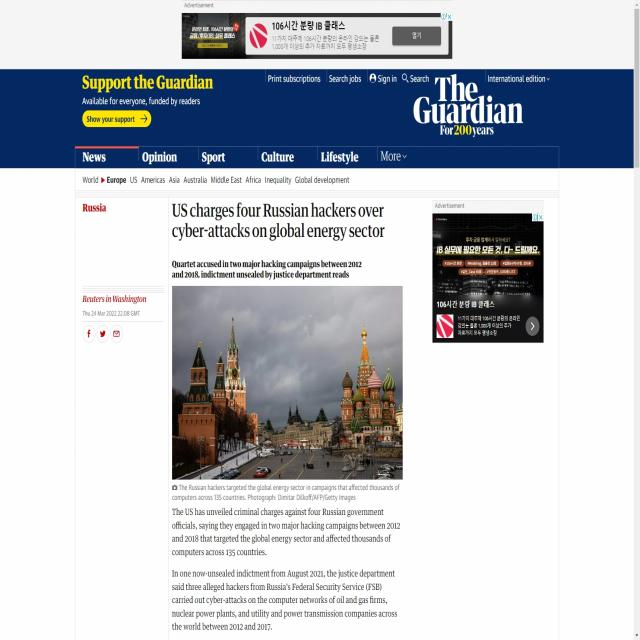menu-bar: (74, 145, 559, 168), (264, 69, 431, 86)
